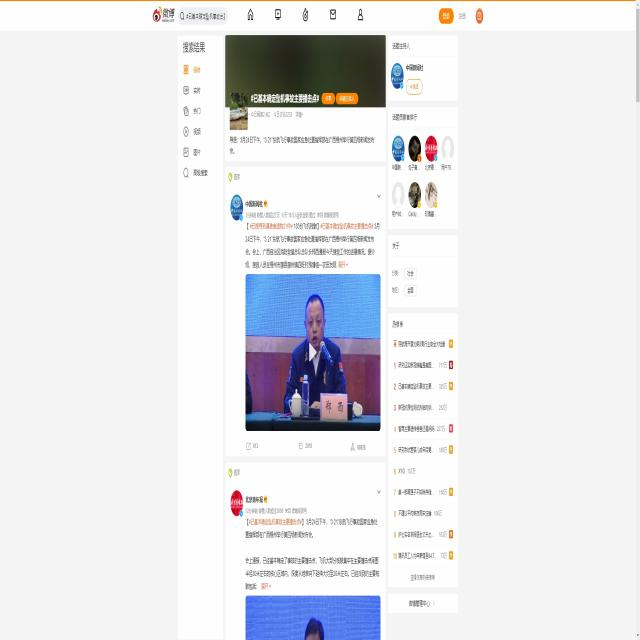menu-bar: (436, 7, 485, 28)
menu-panel: (177, 36, 223, 241)
search: (176, 4, 229, 25)
side-panel: (386, 35, 460, 620)
tab-bar: (244, 5, 368, 25)
